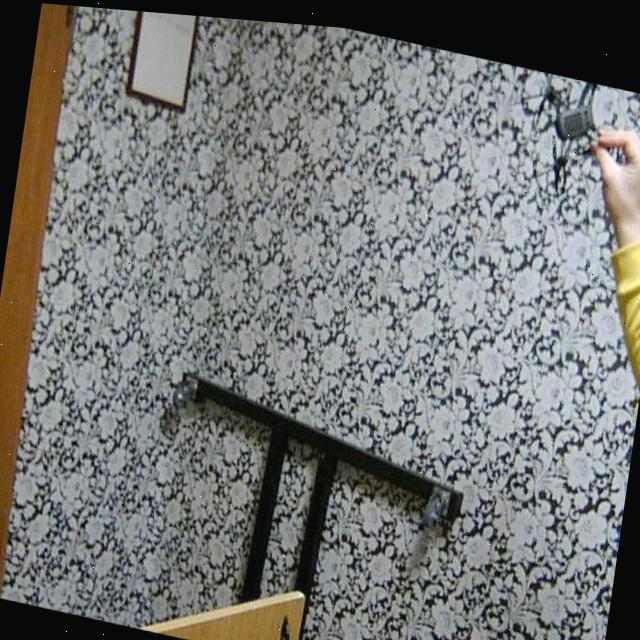drone: (490, 54, 640, 207)
